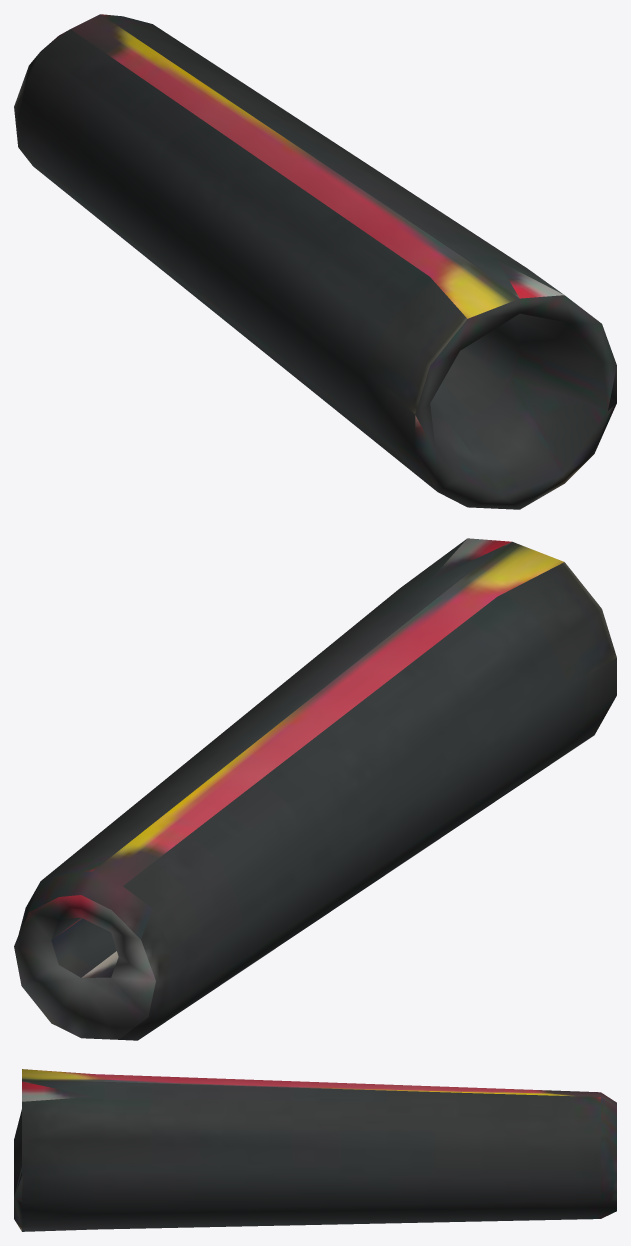
File: ExtinguisherNozzlefbx.fbx
3 views of the same model, one above another, from view 1: azimuth 30°, elevation 25°; view 2: azimuth 150°, elevation 25°; view 3: azimuth 270°, elevation 25° (orthographic). The views are drawn at different scales.
Visible parts, largest first — view 1: Exitinguisher_Nozzle; view 2: Exitinguisher_Nozzle; view 3: Exitinguisher_Nozzle.
Boxes of the visible parts, x1=… form: Exitinguisher_Nozzle: x1=14, y1=14, x2=616, y2=509; Exitinguisher_Nozzle: x1=14, y1=538, x2=616, y2=1040; Exitinguisher_Nozzle: x1=14, y1=1069, x2=616, y2=1231.
Bounding box in the file's own units: 4 × 4 × 15.
